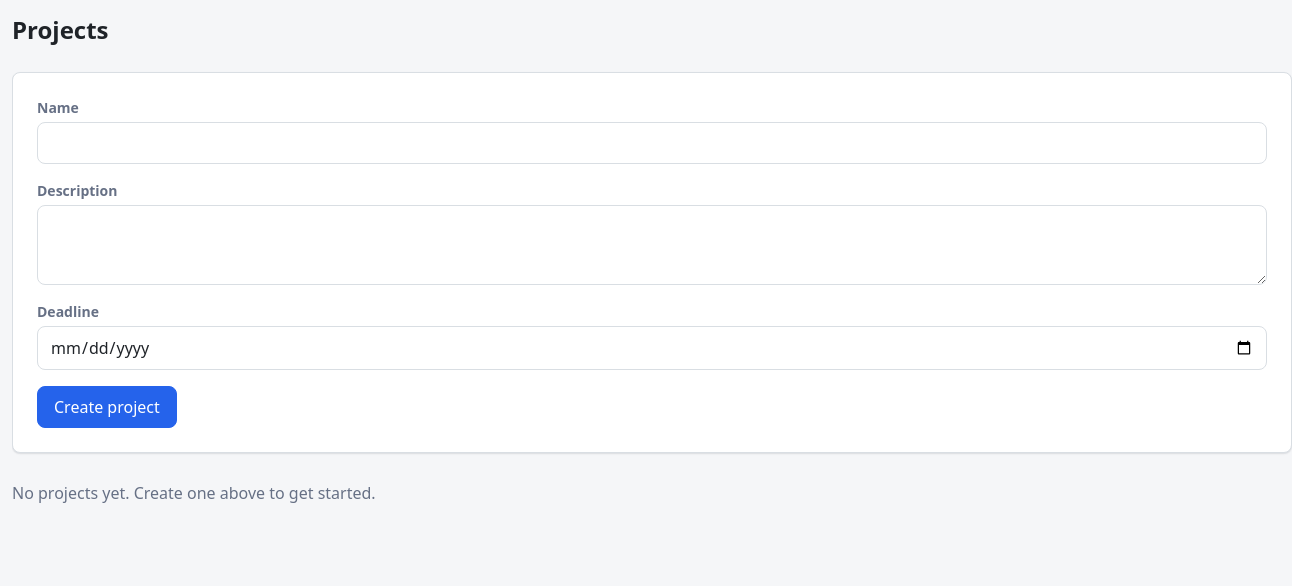
Test: ProjectsPage › shows a generic error and keeps the page usable when create fails
The image size is (1292, 586).
Expected: the text "No projects yet. Create one above to get started." is shown, x1=12 y1=482 x2=376 y2=504
Type "Demo Project" into the field labelled "Name". click: (652, 143)
box: x1=37 y1=122 x2=1267 y2=164
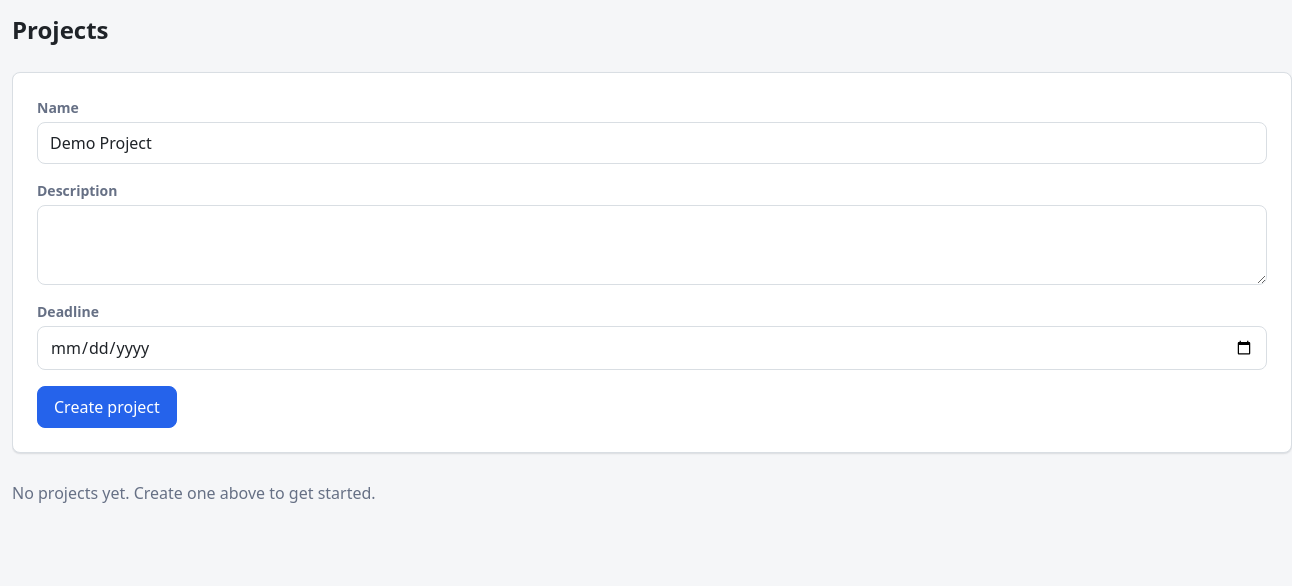
Click the button "Create project". click: (107, 407)
box: x1=37 y1=386 x2=177 y2=428
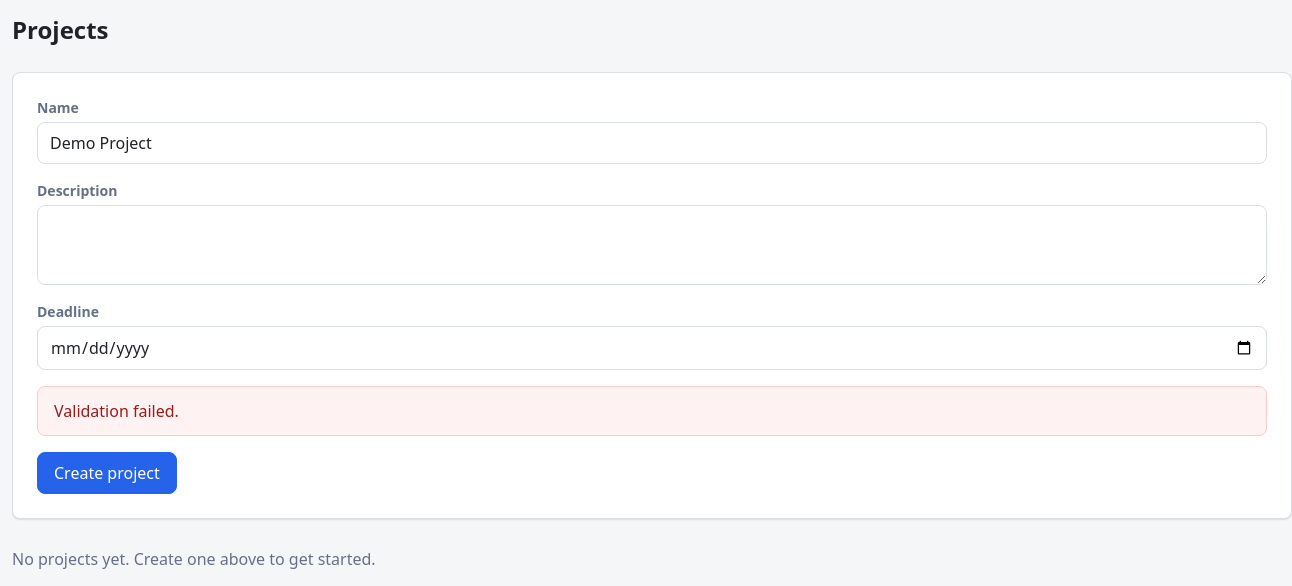
Expected: the button "Create project" is shown, x1=37 y1=452 x2=177 y2=494
Expected: the message reads "Validation failed.", x1=54 y1=400 x2=179 y2=422
